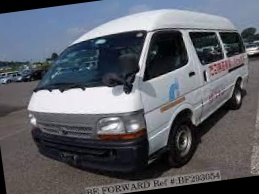van: (16, 0, 259, 187)
